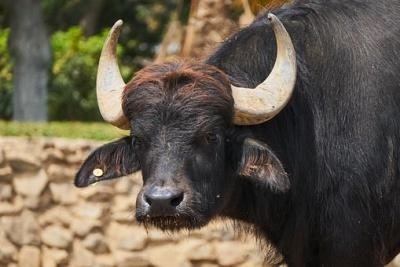buffalo: (75, 0, 399, 266)
